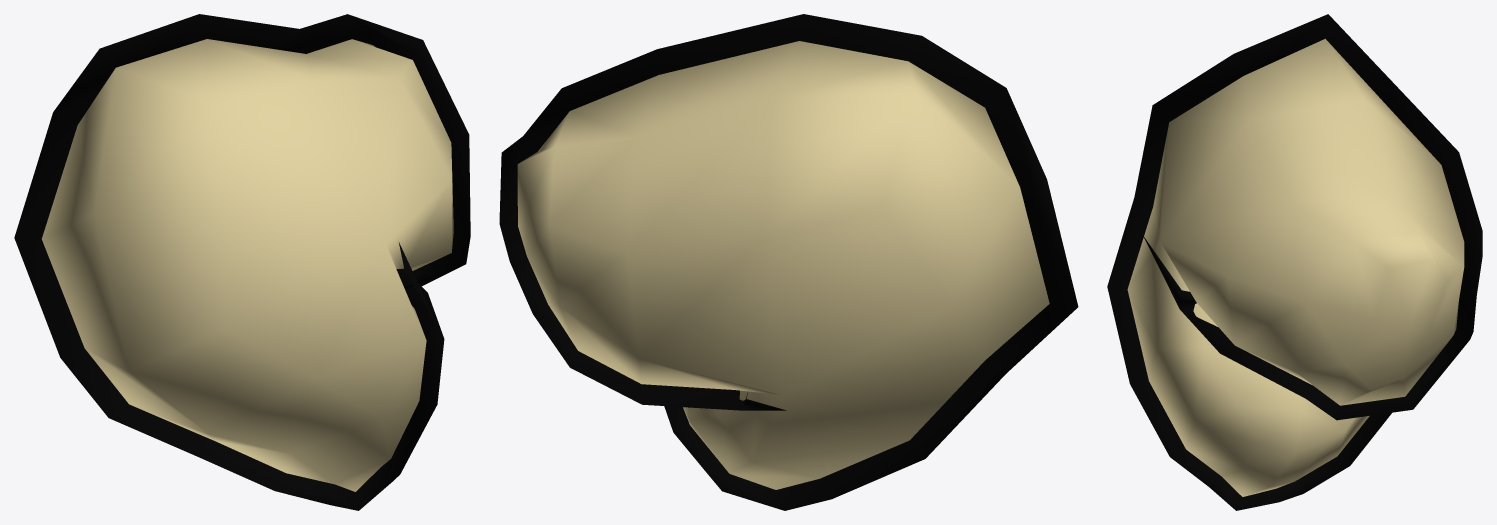
File: popcorn.glb
3 views of the same model, side by side, from view 1: azimuth 30°, elevation 25°; view 2: azimuth 150°, elevation 25°; view 3: azimuth 270°, elevation 25° (orthographic). The views are drawn at different scales.
Parts seen in each view (by area): view 1: PopcornSmall_PopcornTexShader_0, PopcornSmall_PopcornOutlines_0; view 2: PopcornSmall_PopcornTexShader_0, PopcornSmall_PopcornOutlines_0; view 3: PopcornSmall_PopcornTexShader_0, PopcornSmall_PopcornOutlines_0.
Part boxes in pixels (<box>): PopcornSmall_PopcornTexShader_0: <box>42,39,453,491</box>; PopcornSmall_PopcornOutlines_0: <box>14,14,470,510</box>; PopcornSmall_PopcornTexShader_0: <box>517,41,1049,489</box>; PopcornSmall_PopcornOutlines_0: <box>499,14,1078,510</box>; PopcornSmall_PopcornTexShader_0: <box>1127,38,1464,496</box>; PopcornSmall_PopcornOutlines_0: <box>1107,14,1482,510</box>.
Bounding box in the file's own units: 2.26 × 2.36 × 1.96.
